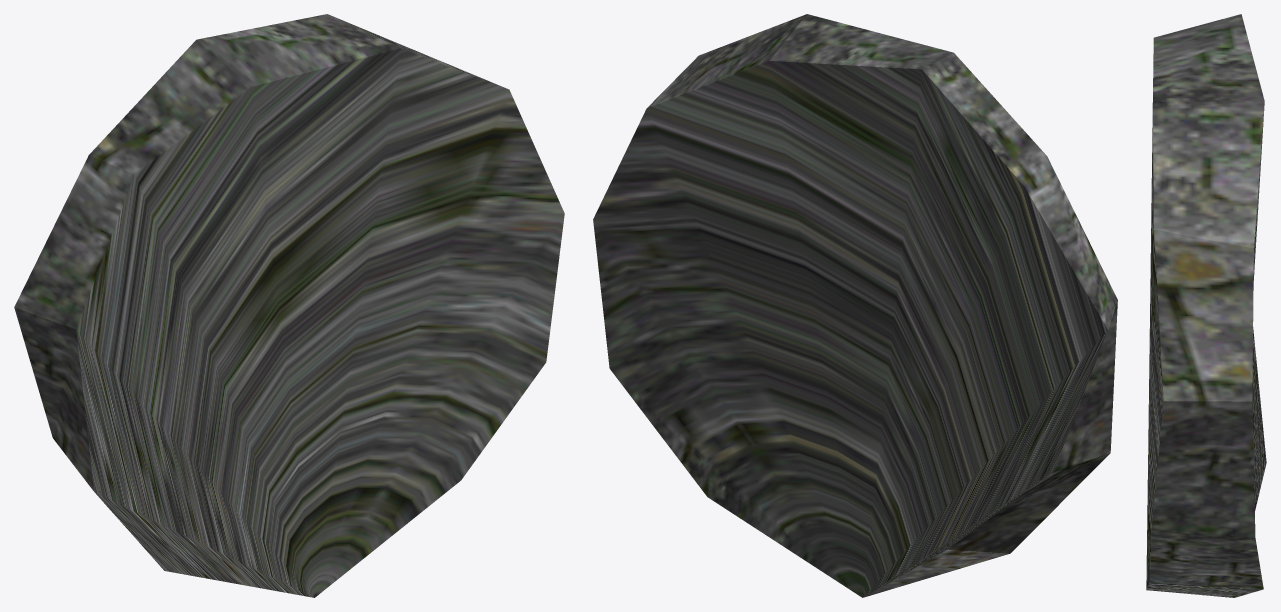
The model's file is PortalScreenModel.fbx.
3 renders of one model, left to right at view 1: azimuth 30°, elevation 25°; view 2: azimuth 150°, elevation 25°; view 3: azimuth 270°, elevation 25°, orthographic.
Visible parts, largest first — view 1: PortalScreen; view 2: PortalScreen; view 3: PortalScreen.
Part boxes in pixels (bbox=[...]): PortalScreen: bbox=[14, 14, 564, 597]; PortalScreen: bbox=[593, 14, 1117, 597]; PortalScreen: bbox=[1146, 14, 1266, 597].
Size of the model in its own units: 4.82 by 4.94 by 0.9738.
